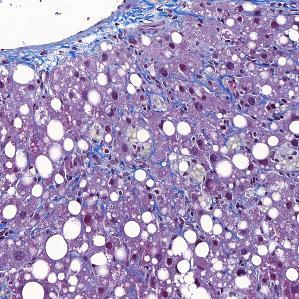fibrosis: (116, 7, 186, 39), (87, 154, 140, 186)
